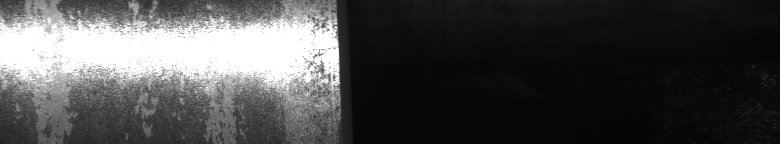ke: (6, 4, 328, 136)
